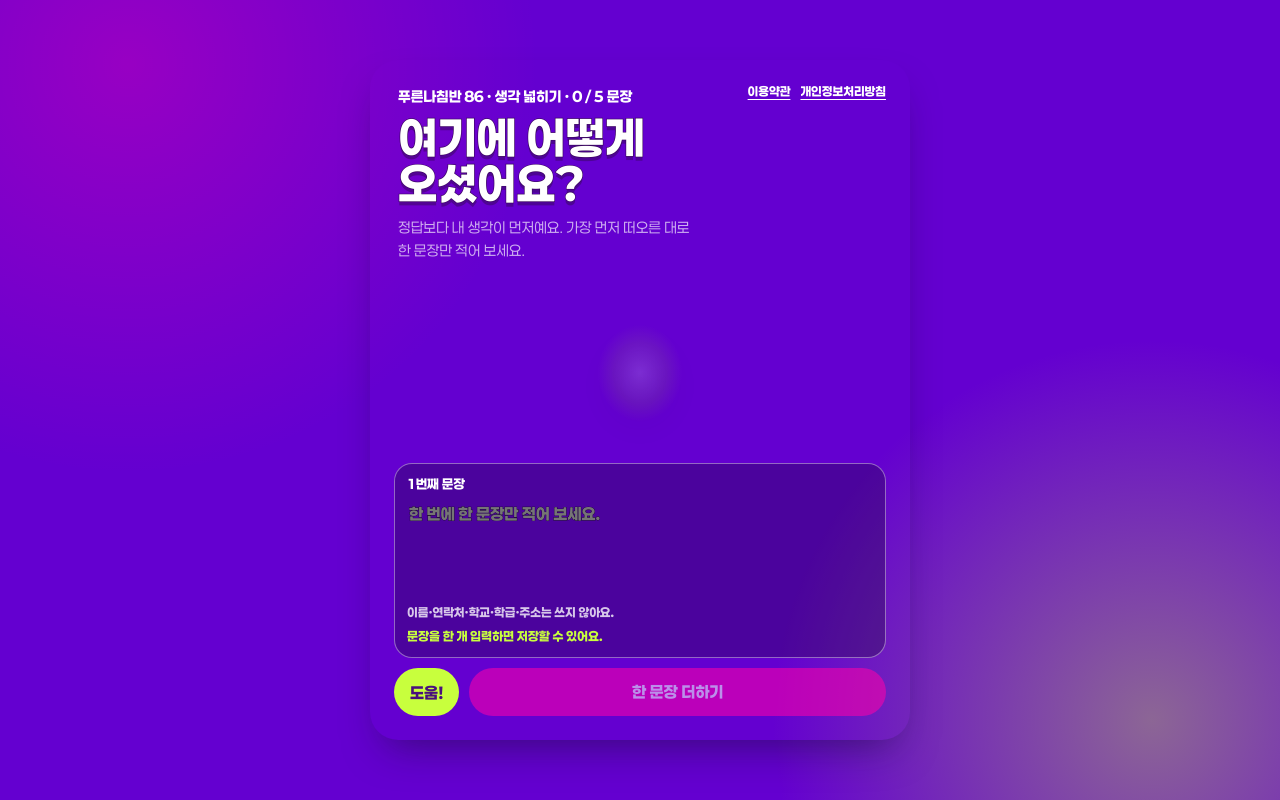
Test: 학생 활동 시작 화면 › 아직 아무것도 못 쓴 채 도움을 누르면 API 질문 대신 문장 시작 예시를 건넨다
Click the button "도움!" at (427, 692), box [394,668,459,716]
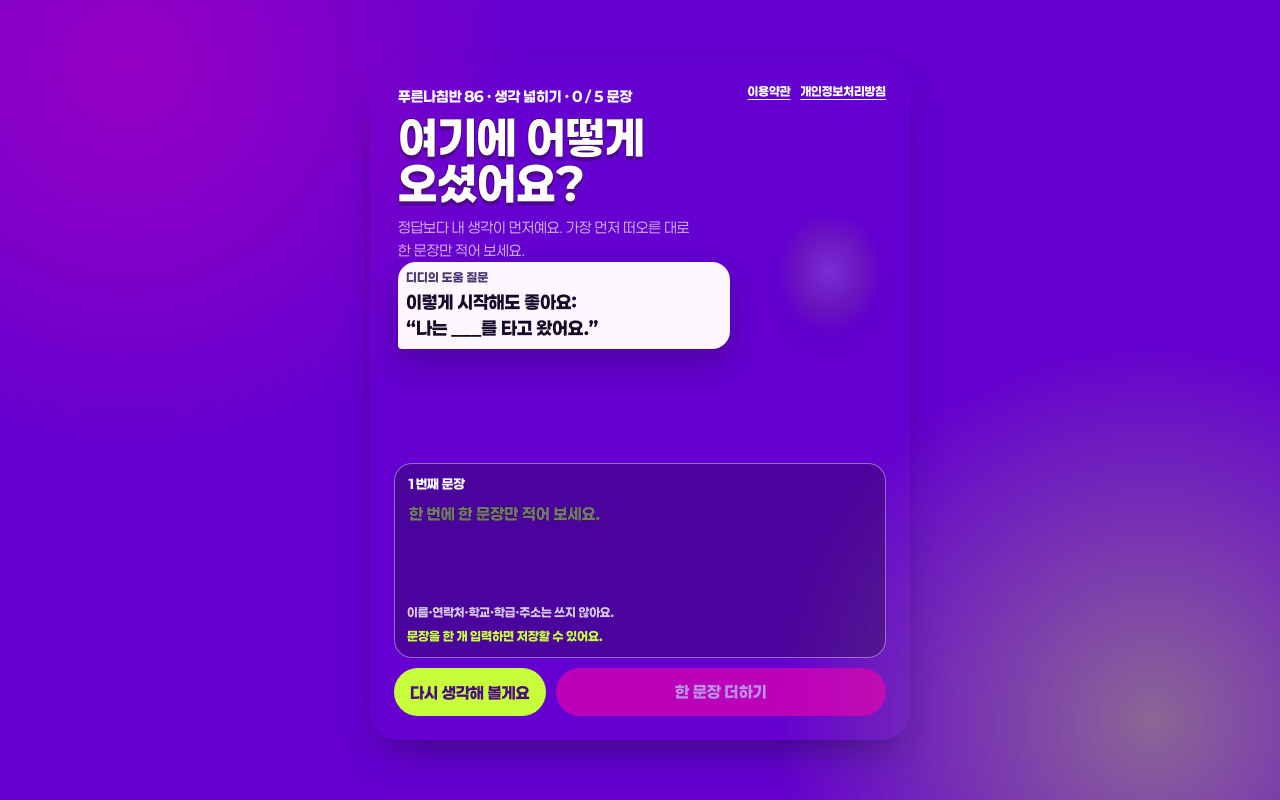
Expected: the text "이렇게 시작해도 좋아요: “나는 ___를 타고 왔어요.”" is shown, [406,292,598,339]
